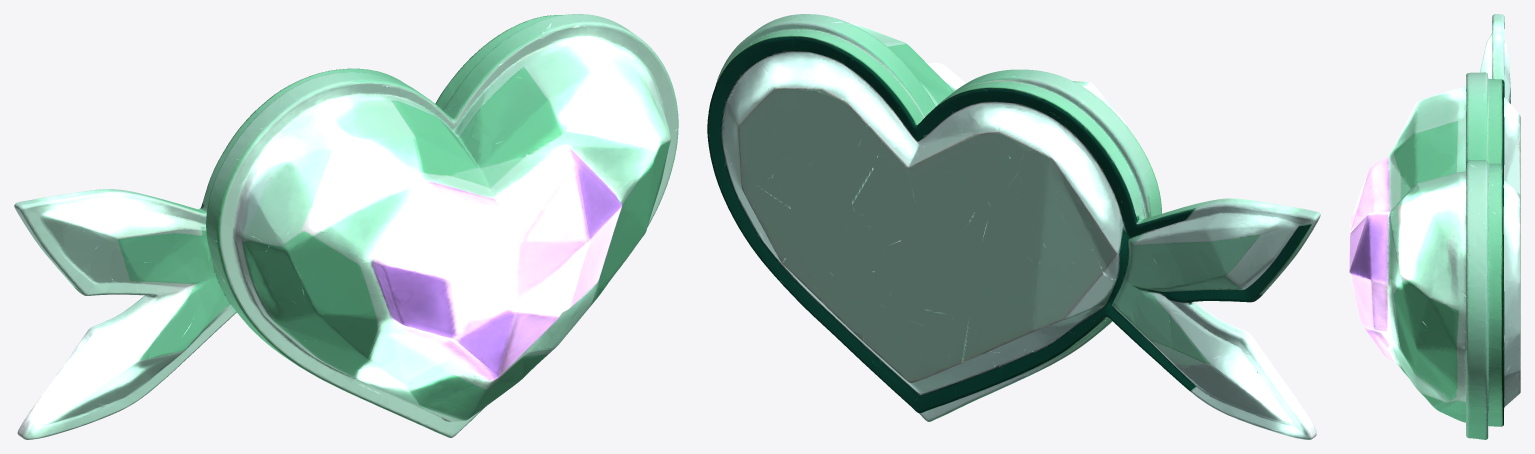
Rendered from koharu_shot.glb.
3 views of the same model, side by side, from view 1: azimuth 30°, elevation 25°; view 2: azimuth 150°, elevation 25°; view 3: azimuth 270°, elevation 25° (orthographic). The views are drawn at different scales.
Parts seen in each view (by area): view 1: Mesh_0; view 2: Mesh_0; view 3: Mesh_0.
Boxes of the visible parts, box(x1,y1,x2,y2) form: Mesh_0: box(14, 14, 678, 439); Mesh_0: box(707, 14, 1320, 439); Mesh_0: box(1349, 14, 1520, 439).
Size of the model in its own units: 1.9 by 1.09 by 0.5398.
1 material, 1 textured.
